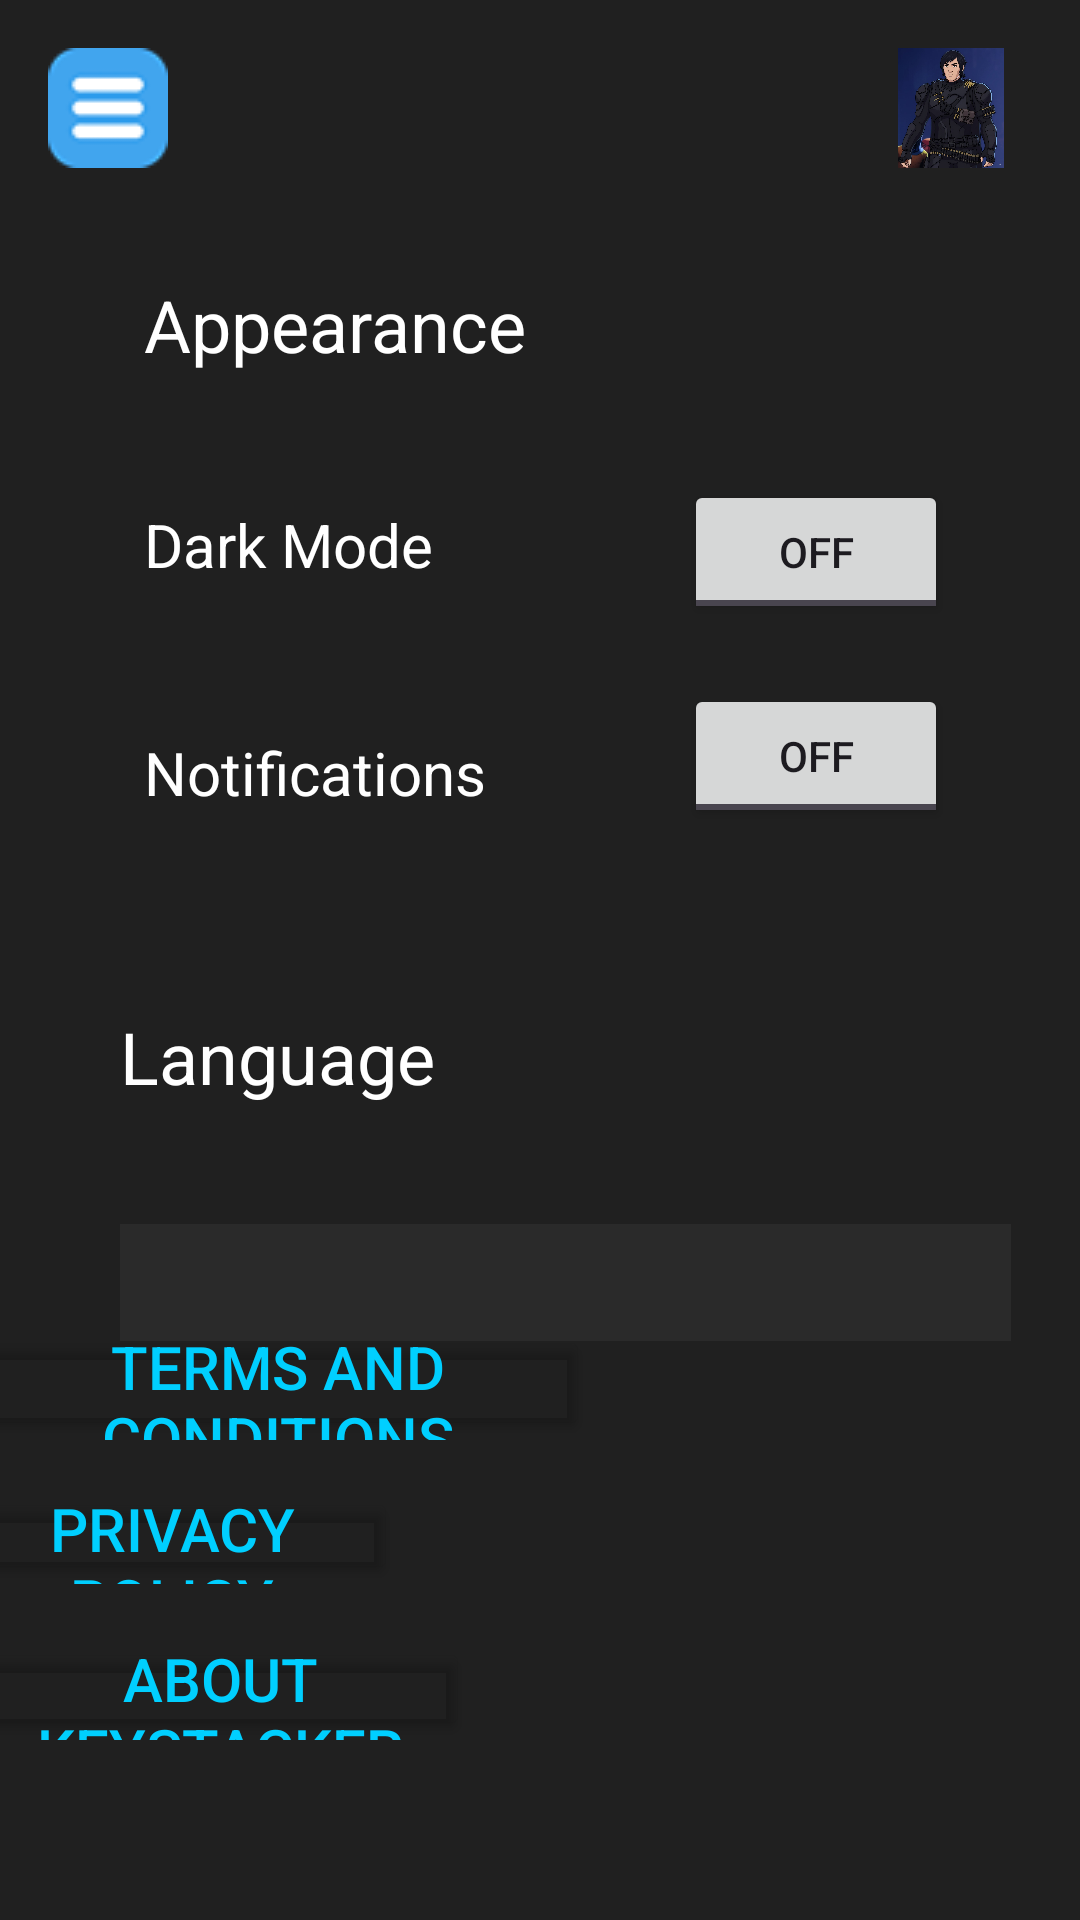

Where icons sit on this 1080px×1920px app screen, as rect(x1, y1, x2, y2):
Menu: rect(48, 48, 168, 168)
